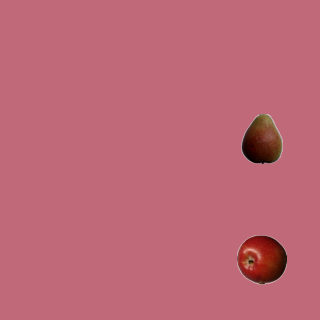Apple Braeburn: (236, 234, 286, 284)
Pear Forelle: (236, 113, 286, 163)
